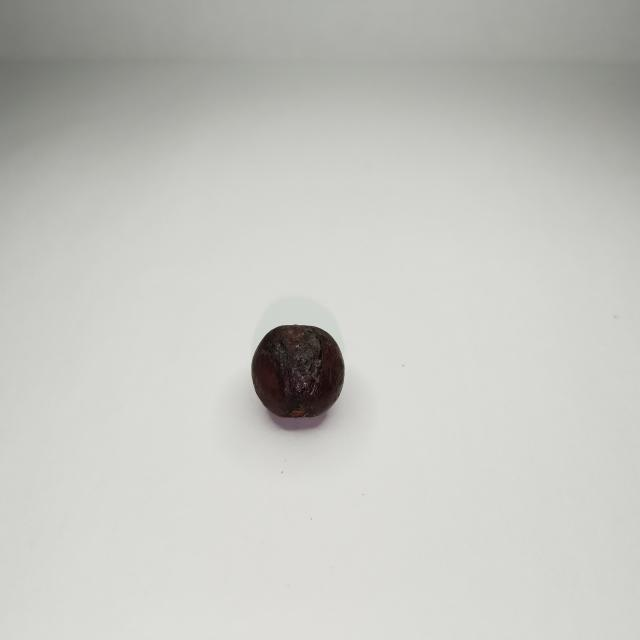Danado: (252, 326, 345, 417)
